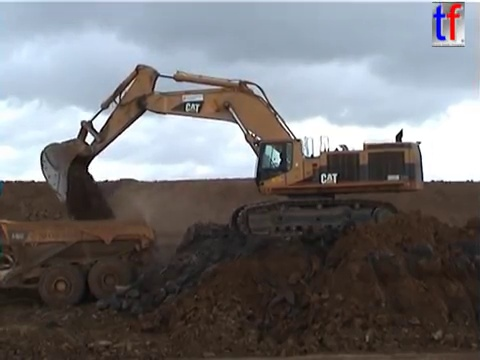excavator: (37, 61, 427, 244)
truck: (1, 216, 156, 308)
